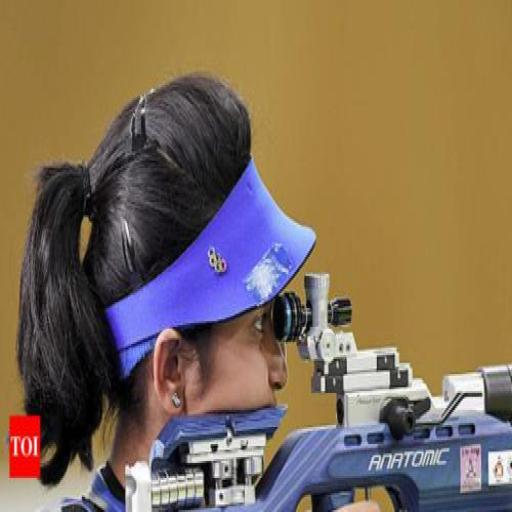shooting: (24, 119, 488, 512)
